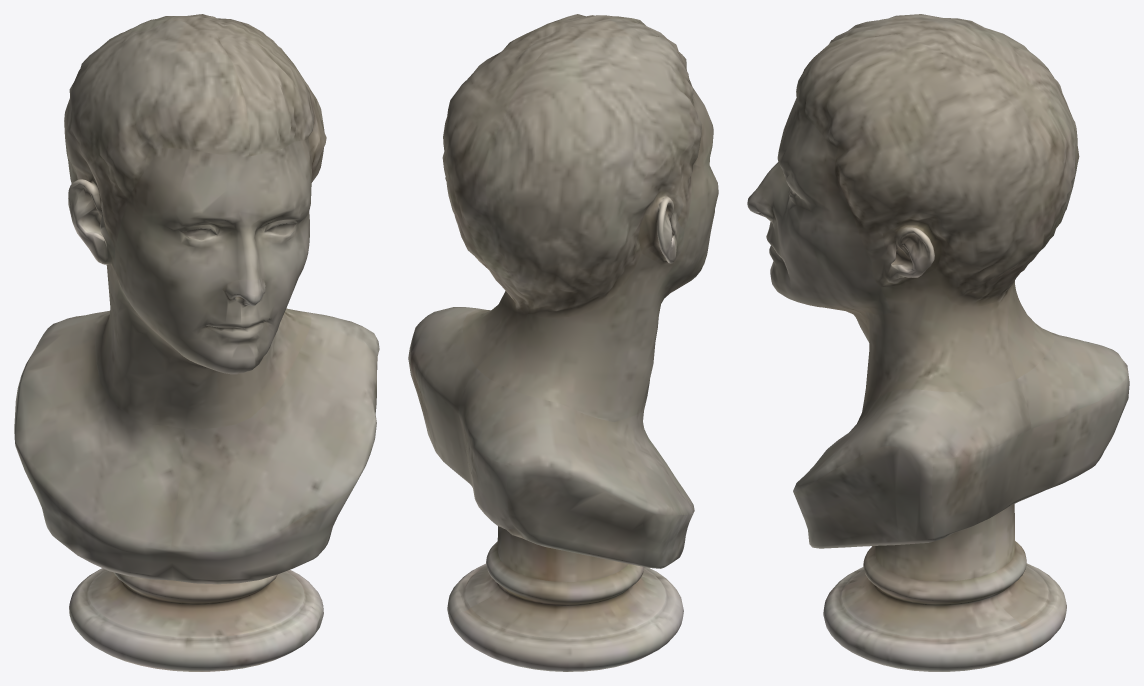
Rendered from marble_bust_01.glb.
3 views of the same model, side by side, from view 1: azimuth 30°, elevation 25°; view 2: azimuth 150°, elevation 25°; view 3: azimuth 270°, elevation 25° (orthographic). The views are drawn at different scales.
Parts seen in each view (by area): view 1: marble_bust_01; view 2: marble_bust_01; view 3: marble_bust_01.
Boxes of the visible parts, x1=… form: marble_bust_01: x1=14, y1=14, x2=379, y2=671; marble_bust_01: x1=408, y1=14, x2=718, y2=671; marble_bust_01: x1=747, y1=14, x2=1129, y2=671.
Bounding box in the file's own units: 0.2718 × 0.5148 × 0.2997.
1 material, 1 textured.
